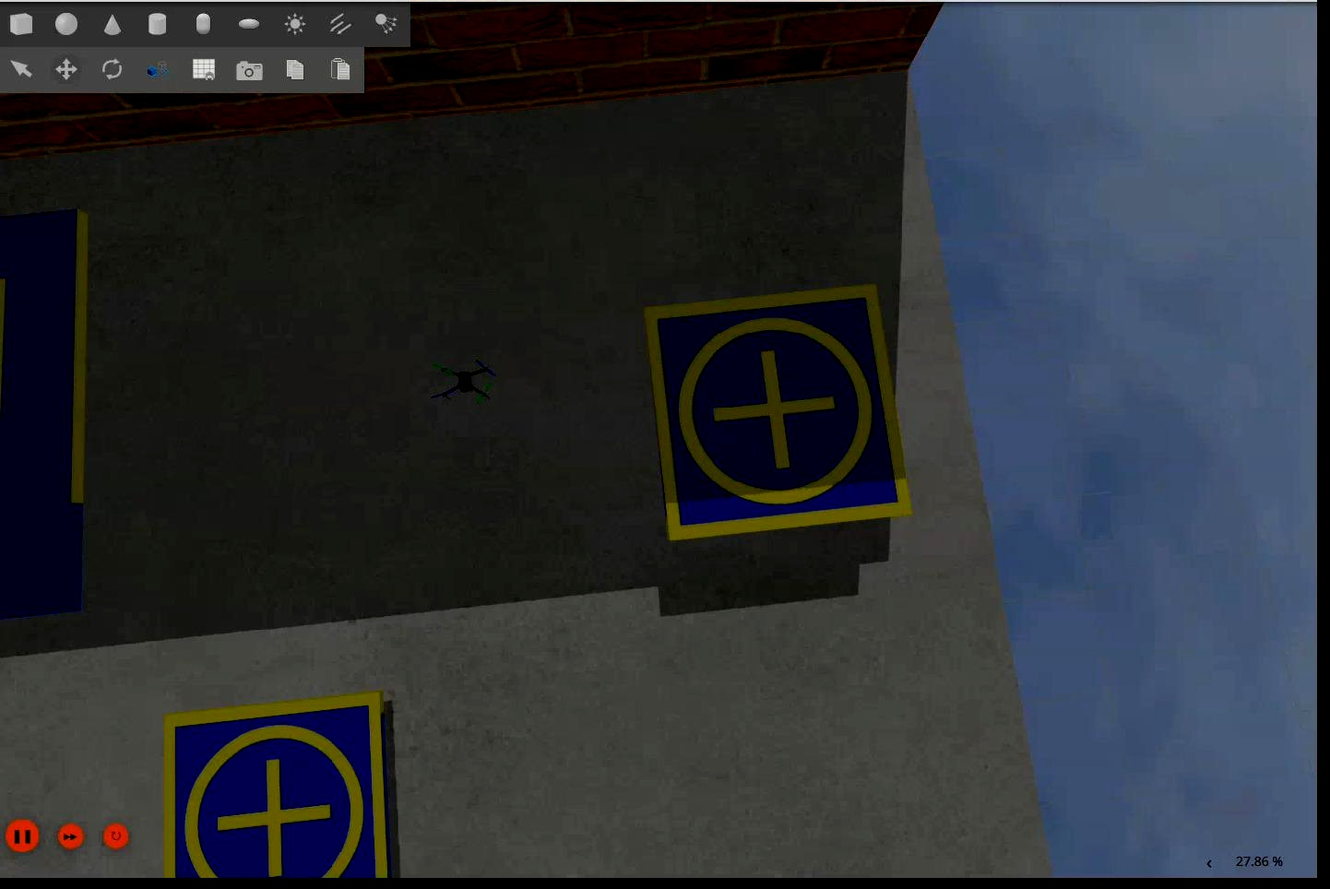large_base: (1, 209, 84, 616)
small_base: (647, 286, 914, 546), (162, 698, 396, 883)
